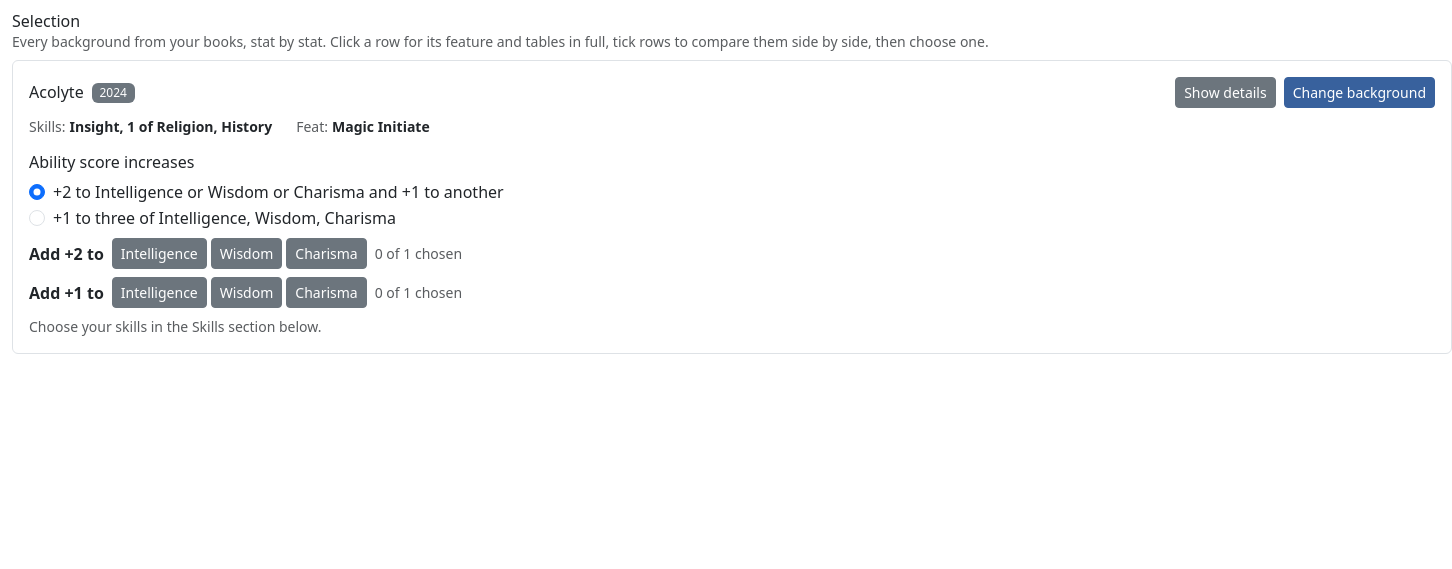
Test case: BackgroundSelection story tables › only reads the story tables of a background that is not the chosen one
Click the button "Change background": (1359, 93) [1284,77,1435,108]
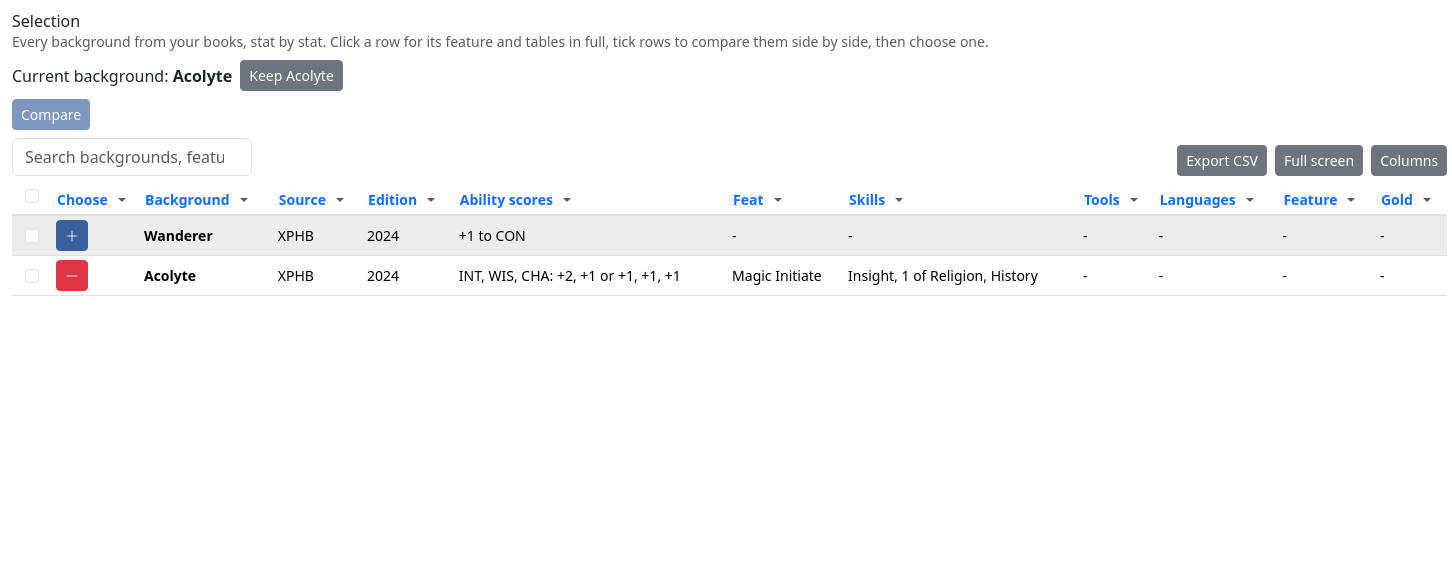
Click the text "Wanderer": (178, 236) [144,226,213,245]
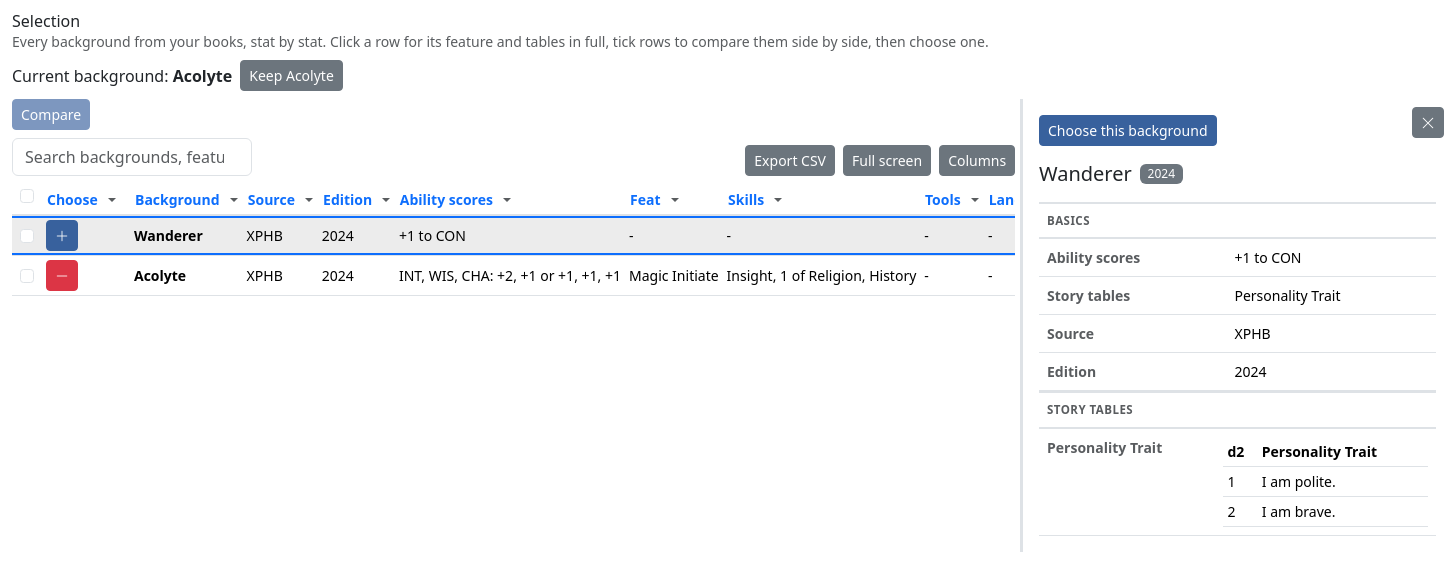
Check: the text "I am brave." is shown, box [1258,496,1428,526]
